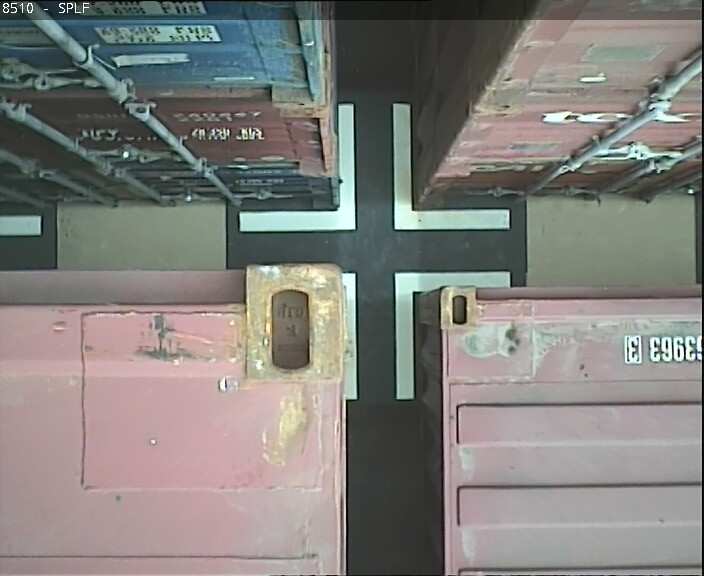groundmarker_1: (240, 271, 512, 399), (240, 103, 511, 231)
